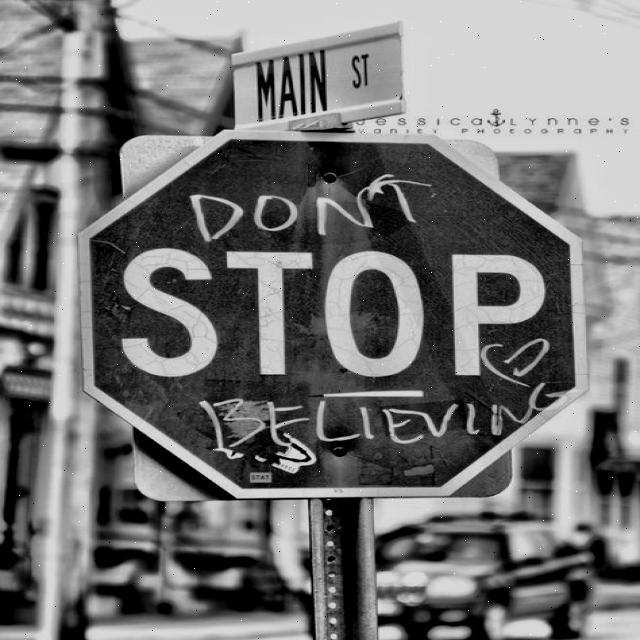Stop-sign: (50, 120, 611, 508)
